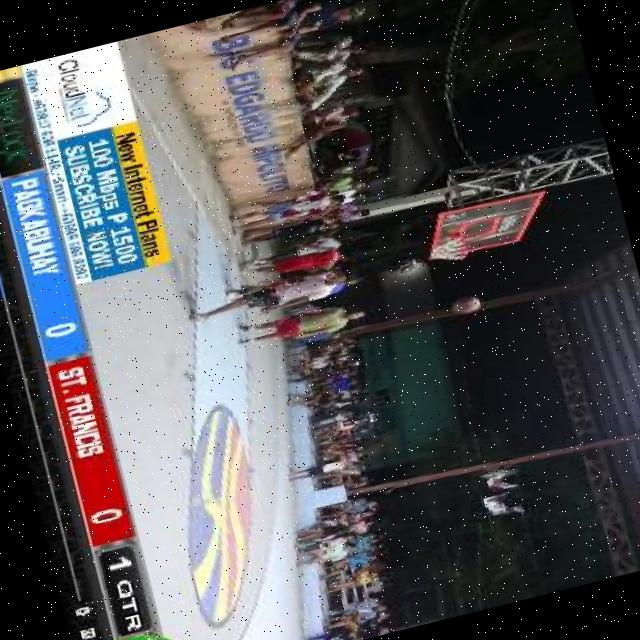ball: (440, 290, 485, 322)
hoop: (450, 230, 470, 262)
